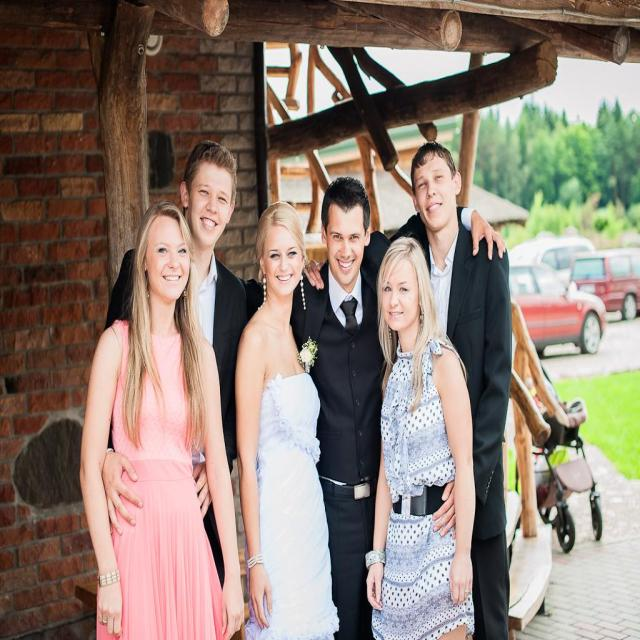Face: (321, 173, 376, 299), (188, 141, 243, 250), (373, 234, 427, 335), (140, 213, 198, 305), (257, 209, 313, 303), (407, 152, 464, 240)
